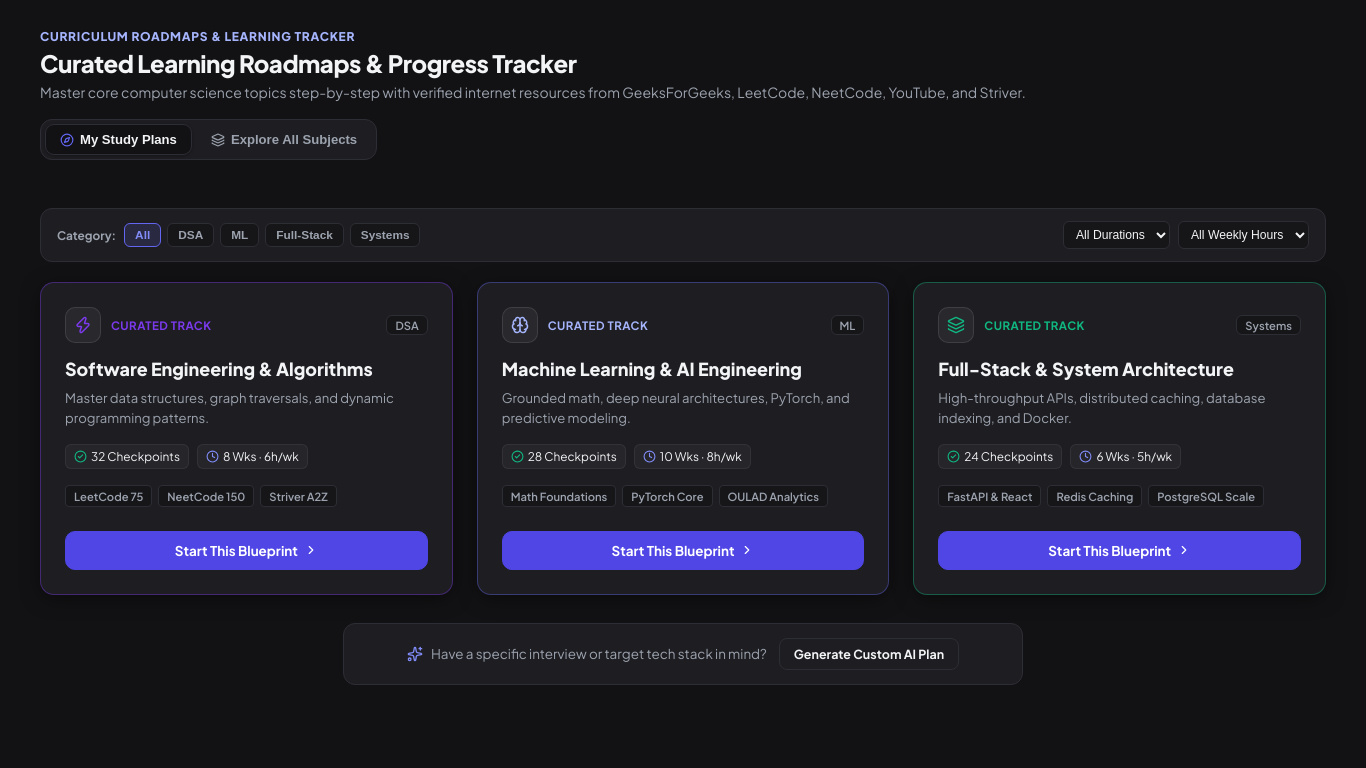
LearnView roadmaps › filters by kernel across title, description, stage and topic
Click the button "Explore All Subjects".
click(284, 140)  # box [196, 124, 372, 155]
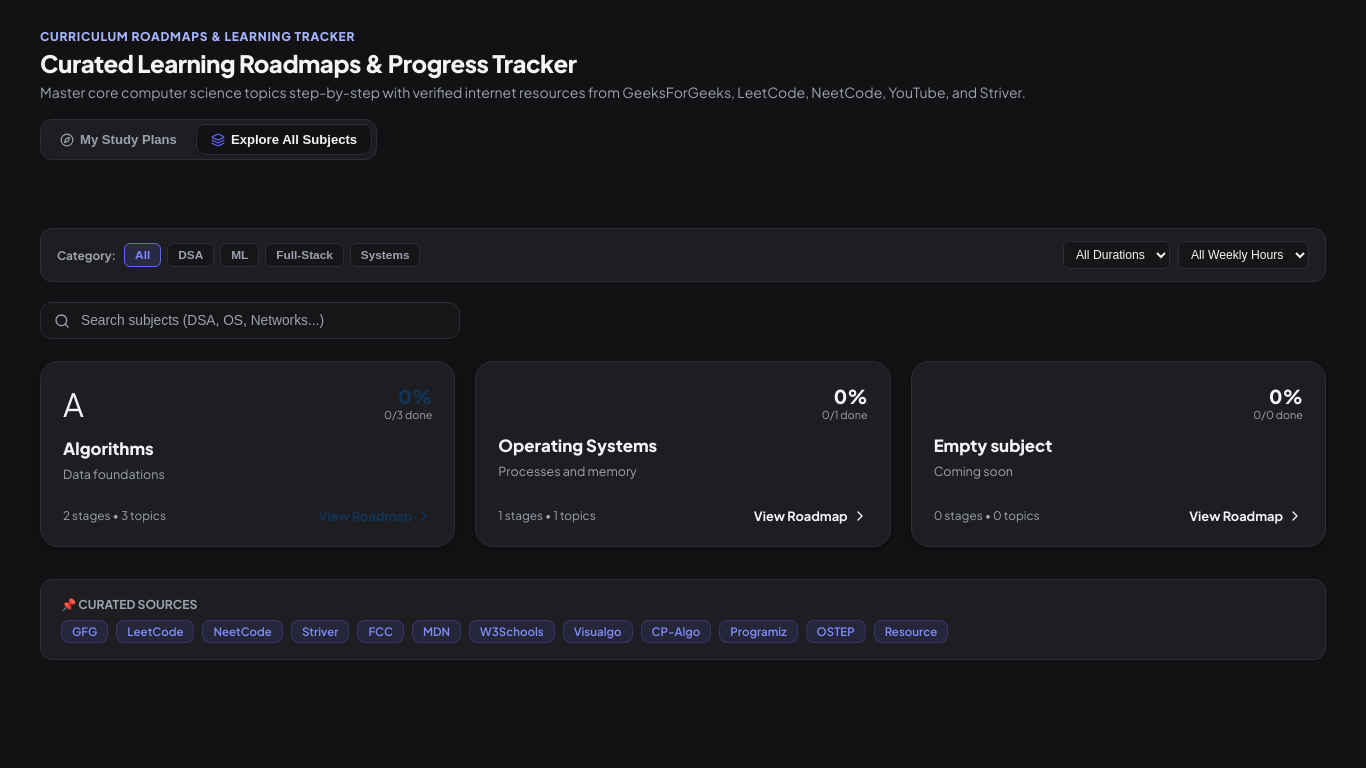
Type "kernel" into the field with placeholder "Search subjects (DSA, OS, Networks...)".
click(250, 321); type("kernel")  # box [40, 302, 460, 339]
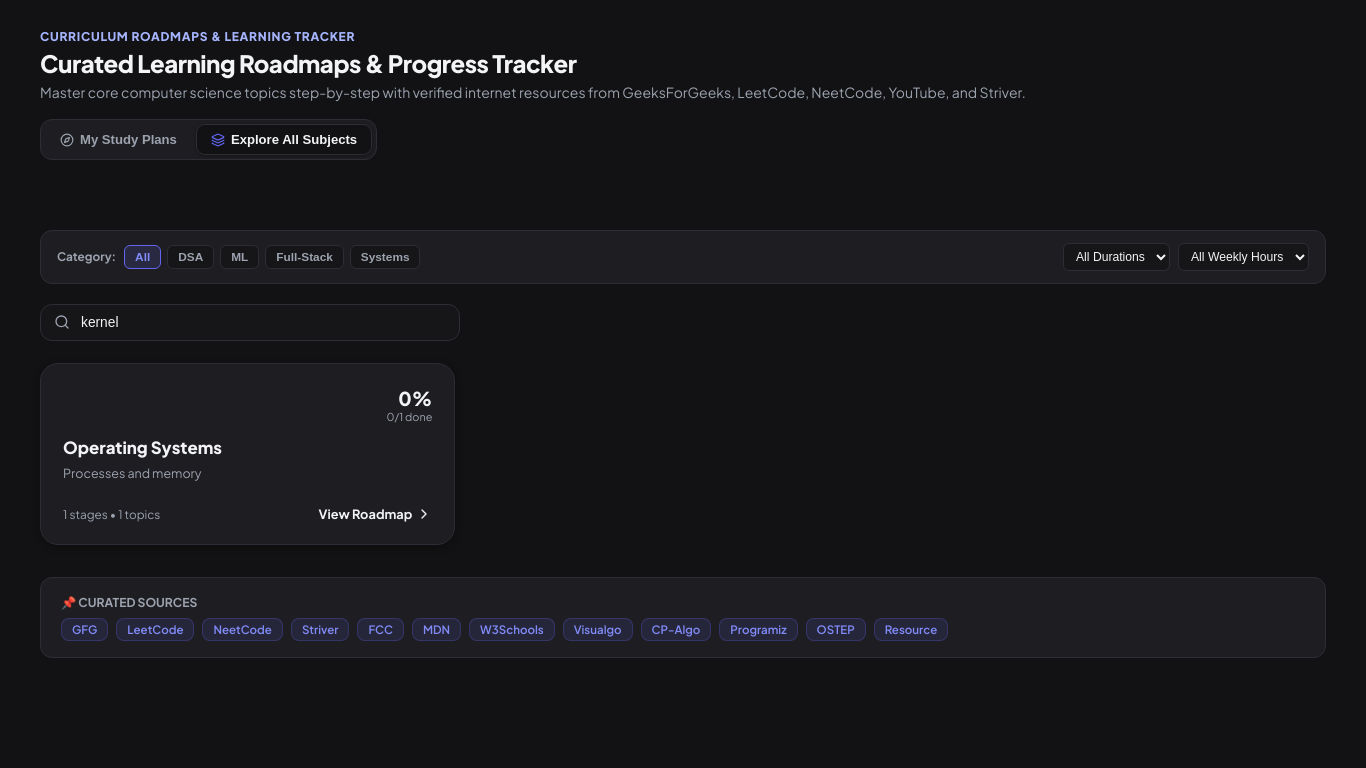
Expected: the heading "Operating Systems" is shown, [63, 437, 222, 458]
Expected: the heading "Empty subject" is gone
